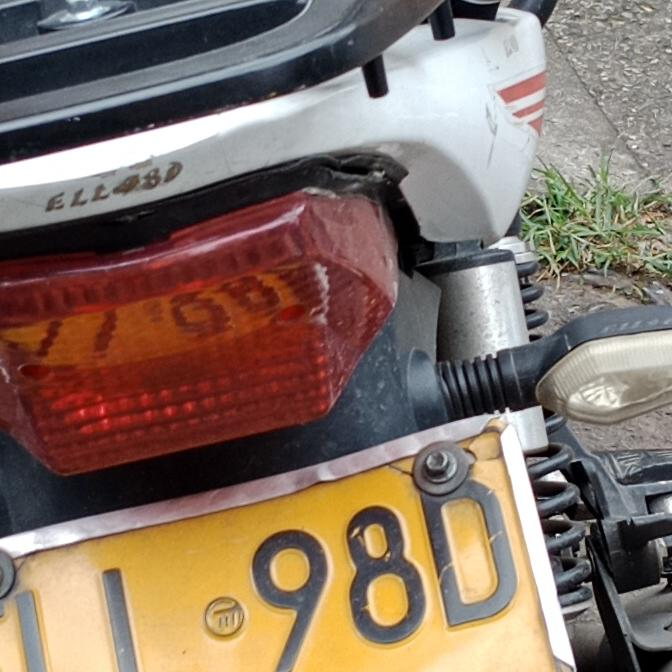plates: (0, 413, 580, 672)
